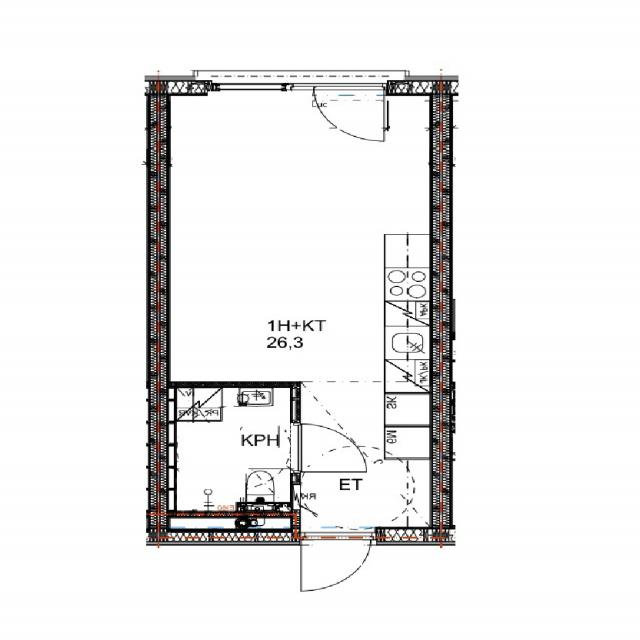door: (302, 526, 370, 596), (313, 80, 385, 146), (291, 424, 365, 471)
